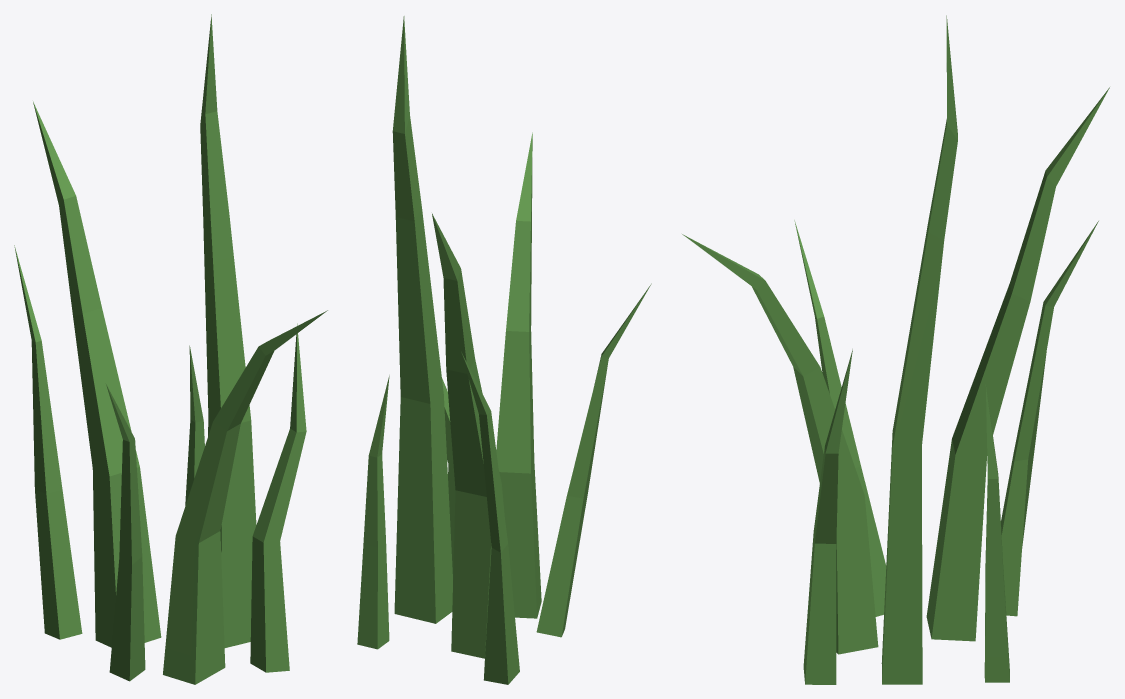
The model's file is Grass_02.fbx.
The picture shows the model from 3 angles, left to right: view 1: azimuth 30°, elevation 25°; view 2: azimuth 150°, elevation 25°; view 3: azimuth 270°, elevation 25°; orthographic projection. The views are drawn at different scales.
Parts seen in each view (by area): view 1: Grass_02_LOD0; view 2: Grass_02_LOD0; view 3: Grass_02_LOD0.
Part boxes in pixels (x1=…): Grass_02_LOD0: x1=14, y1=14, x2=327, y2=684; Grass_02_LOD0: x1=357, y1=16, x2=651, y2=684; Grass_02_LOD0: x1=682, y1=15, x2=1109, y2=684.
Size of what is drawn, in the model's own units: 19.05 by 51.06 by 29.91.
